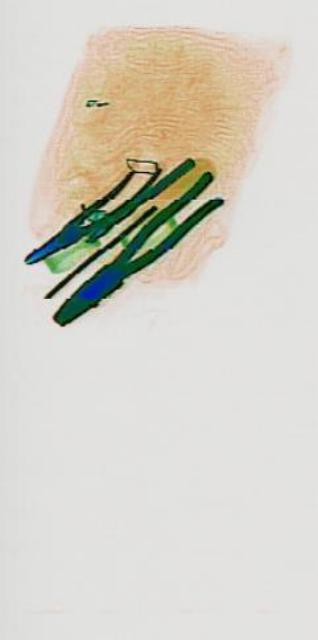Pliers: (48, 159, 221, 339), (19, 126, 192, 280)
